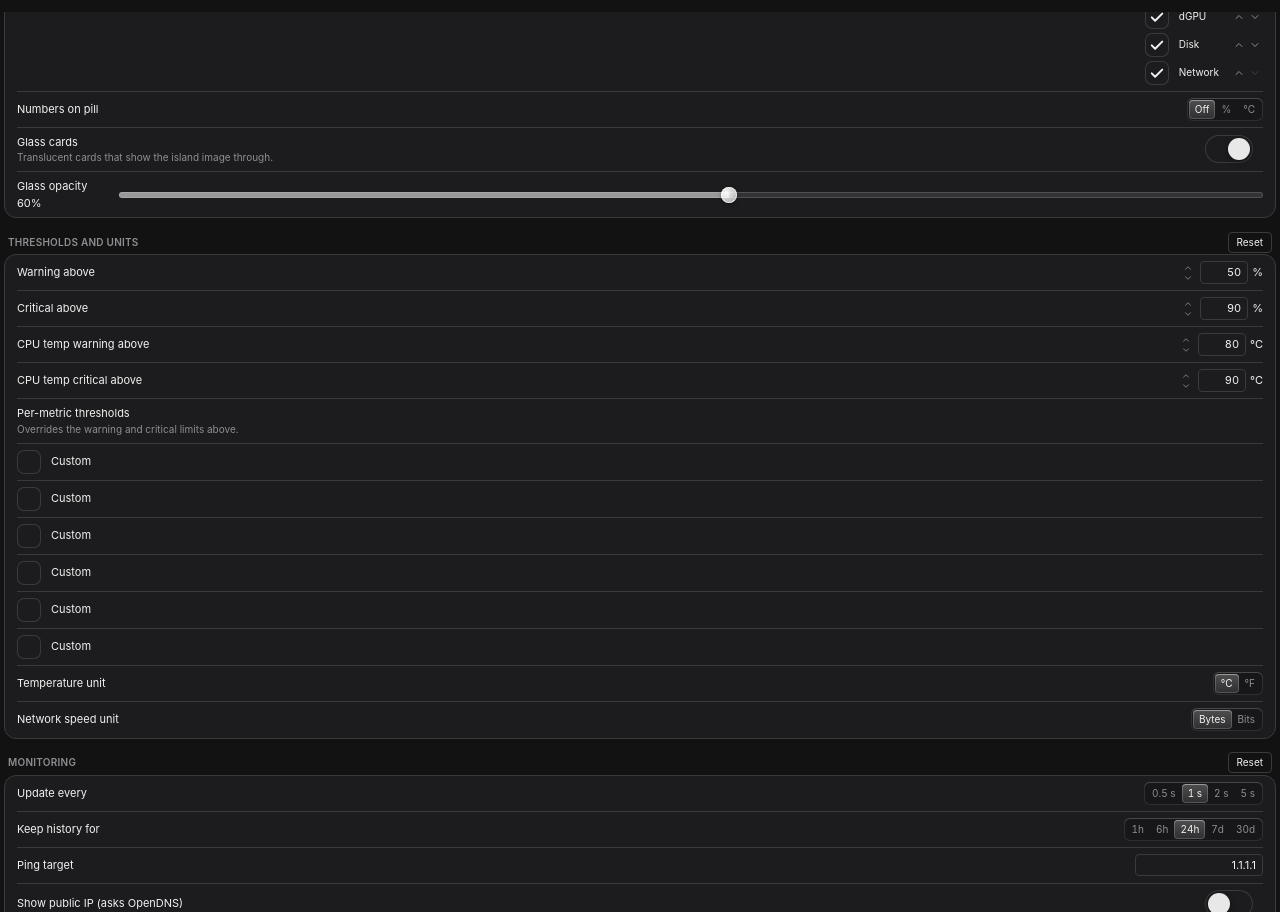
settings tools › resets one group only, after a second click
(page scrolled)
Click the button with aria-label "Reset Thresholds and units" at (1250, 242), box 1228,232 -> 1272,252
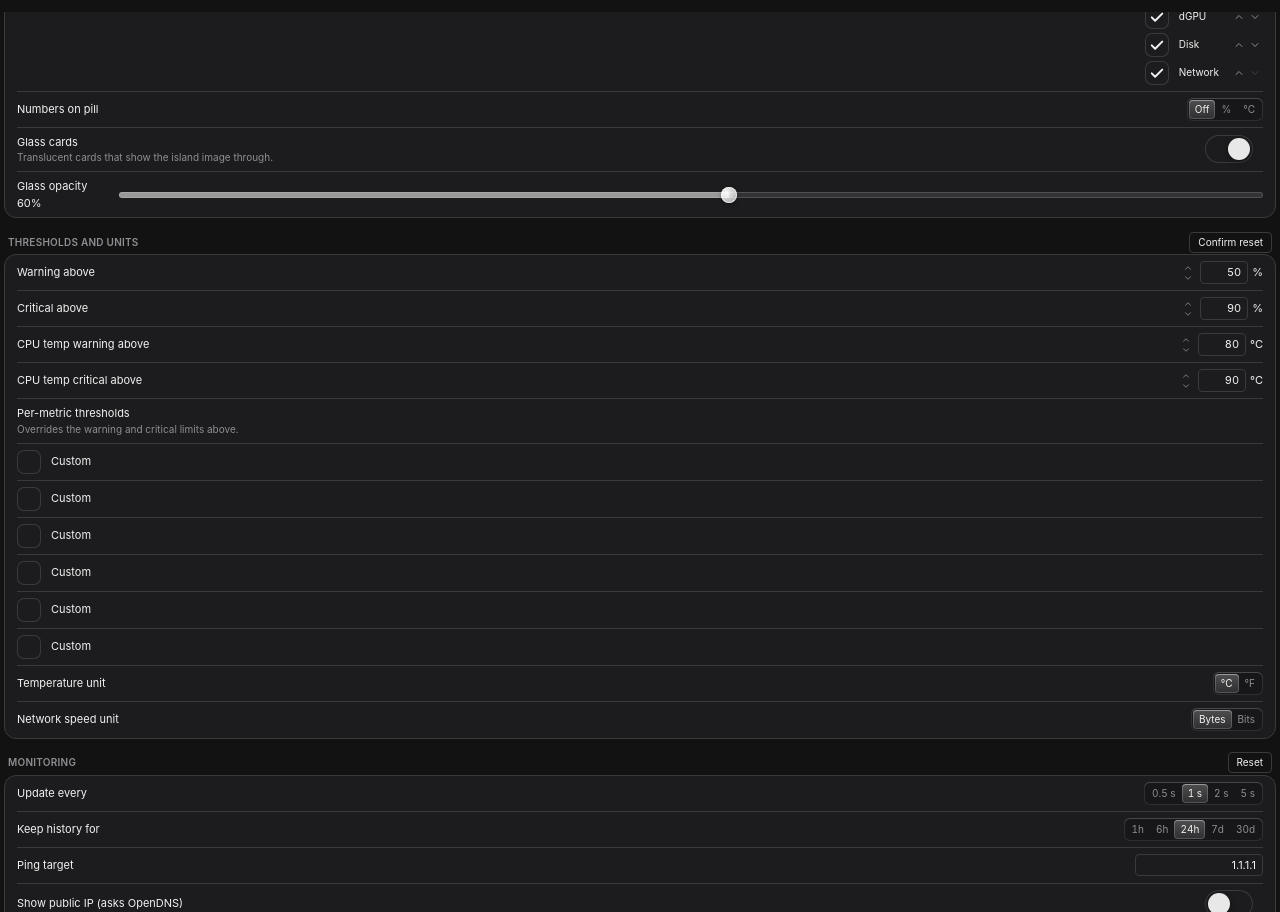
Click the button with aria-label "Confirm reset Thresholds and units" at (1231, 242), box 1189,232 -> 1272,252
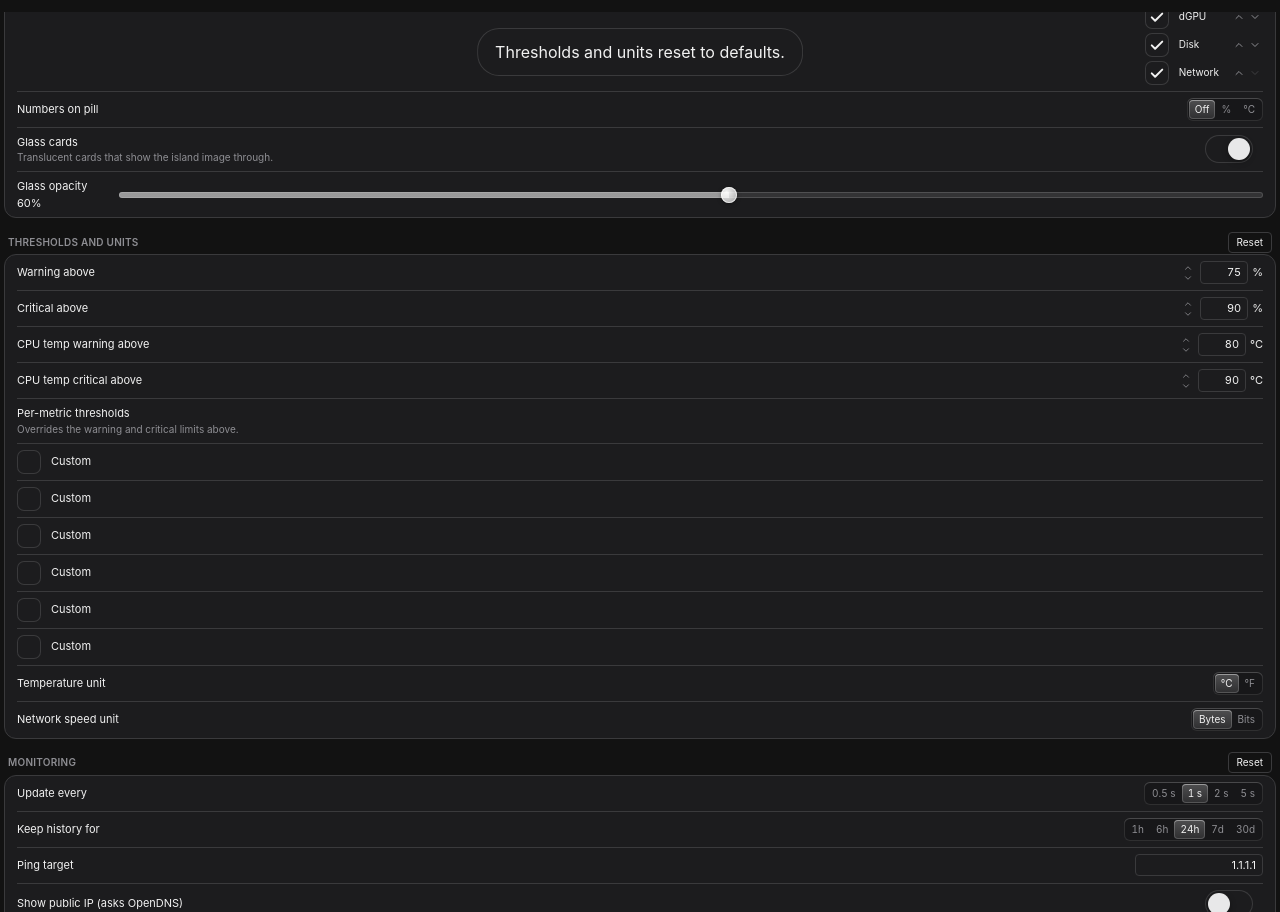
expect the text "Thresholds and units reset to defaults." is shown: met, box 495,40 -> 785,64
